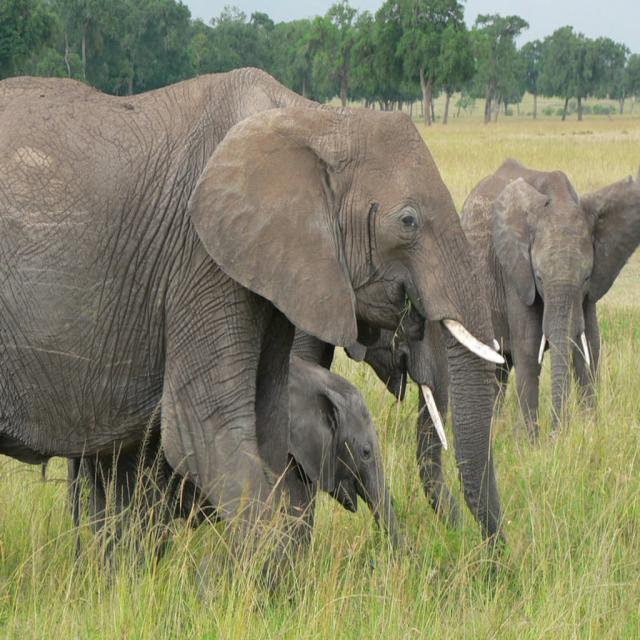elephant: (0, 84, 488, 572), (83, 368, 407, 552), (280, 303, 496, 552), (456, 156, 638, 440)
